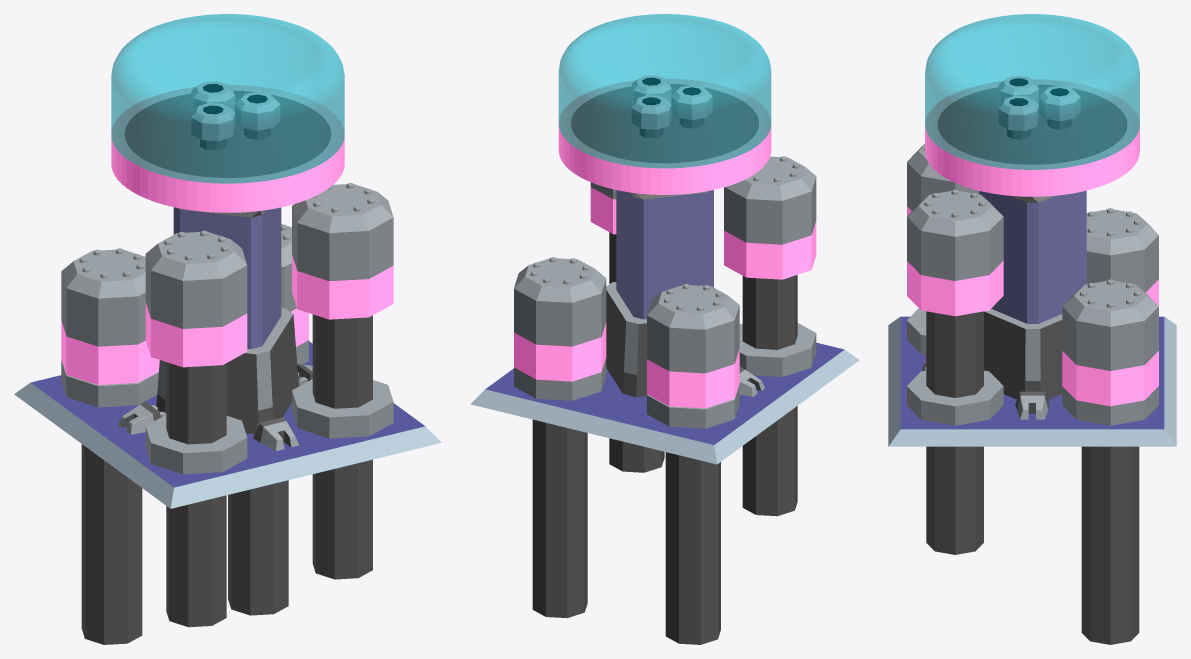
The model's file is 82_Haarvester_ALPHA9.fbx.
The picture shows the model from 3 angles, left to right: view 1: azimuth 30°, elevation 25°; view 2: azimuth 150°, elevation 25°; view 3: azimuth 270°, elevation 25°; orthographic projection. The views are drawn at different scales.
Visible parts, largest first — view 1: pCylinder46, pump3, pump2, pump4, foundation_harvester9, harv9, pump1, pCylinder43, pCylinder42, pCylinder44, polySurface48 (×2), pump14 (+2 smaller); view 2: pCylinder46, pump1, pump4, pump3, harv9, foundation_harvester9, pump2, pCylinder43, pCylinder44, pCylinder41, pump15, pump13 (+1 smaller); view 3: pCylinder46, pump1, pump2, harv9, foundation_harvester9, pump4, pCylinder42, pCylinder41, pump3, pump13, pump14, polySurface48 (+2 smaller).
Boxes of the visible parts, bbox=[...] form: pCylinder46: bbox=[111, 14, 344, 212]; pump3: bbox=[145, 232, 247, 627]; pump2: bbox=[292, 184, 393, 579]; pump4: bbox=[61, 249, 159, 644]; foundation_harvester9: bbox=[14, 341, 441, 508]; harv9: bbox=[156, 207, 298, 434]; pump1: bbox=[228, 224, 308, 615]; pCylinder43: bbox=[145, 415, 247, 474]; pCylinder42: bbox=[292, 379, 393, 438]; pCylinder44: bbox=[61, 359, 158, 407]; polySurface48 (×2): bbox=[118, 401, 299, 450]; pump14: bbox=[234, 92, 280, 139]; pCylinder46: bbox=[558, 14, 771, 194]; pump1: bbox=[514, 258, 606, 618]; pump4: bbox=[647, 285, 739, 644]; pump3: bbox=[724, 156, 816, 516]; harv9: bbox=[606, 190, 713, 397]; foundation_harvester9: bbox=[470, 324, 859, 464]; pump2: bbox=[590, 182, 664, 472]; pCylinder43: bbox=[739, 323, 816, 376]; pCylinder44: bbox=[647, 385, 739, 428]; pCylinder41: bbox=[514, 357, 606, 400]; pump15: bbox=[671, 85, 712, 128]; pump13: bbox=[631, 95, 671, 138]; pCylinder46: bbox=[925, 14, 1139, 196]; pump1: bbox=[1062, 281, 1158, 644]; pump2: bbox=[907, 191, 1003, 554]; harv9: bbox=[979, 190, 1086, 399]; foundation_harvester9: bbox=[888, 316, 1176, 446]; pump4: bbox=[1086, 209, 1158, 305]; pCylinder42: bbox=[907, 370, 1003, 425]; pCylinder41: bbox=[1062, 386, 1158, 425]; pump3: bbox=[907, 144, 979, 215]; pump13: bbox=[1038, 85, 1080, 129]; pump14: bbox=[998, 95, 1038, 139]; polySurface48: bbox=[1015, 391, 1049, 419].
Size of the model in its own units: 2 by 4.2 by 2.
